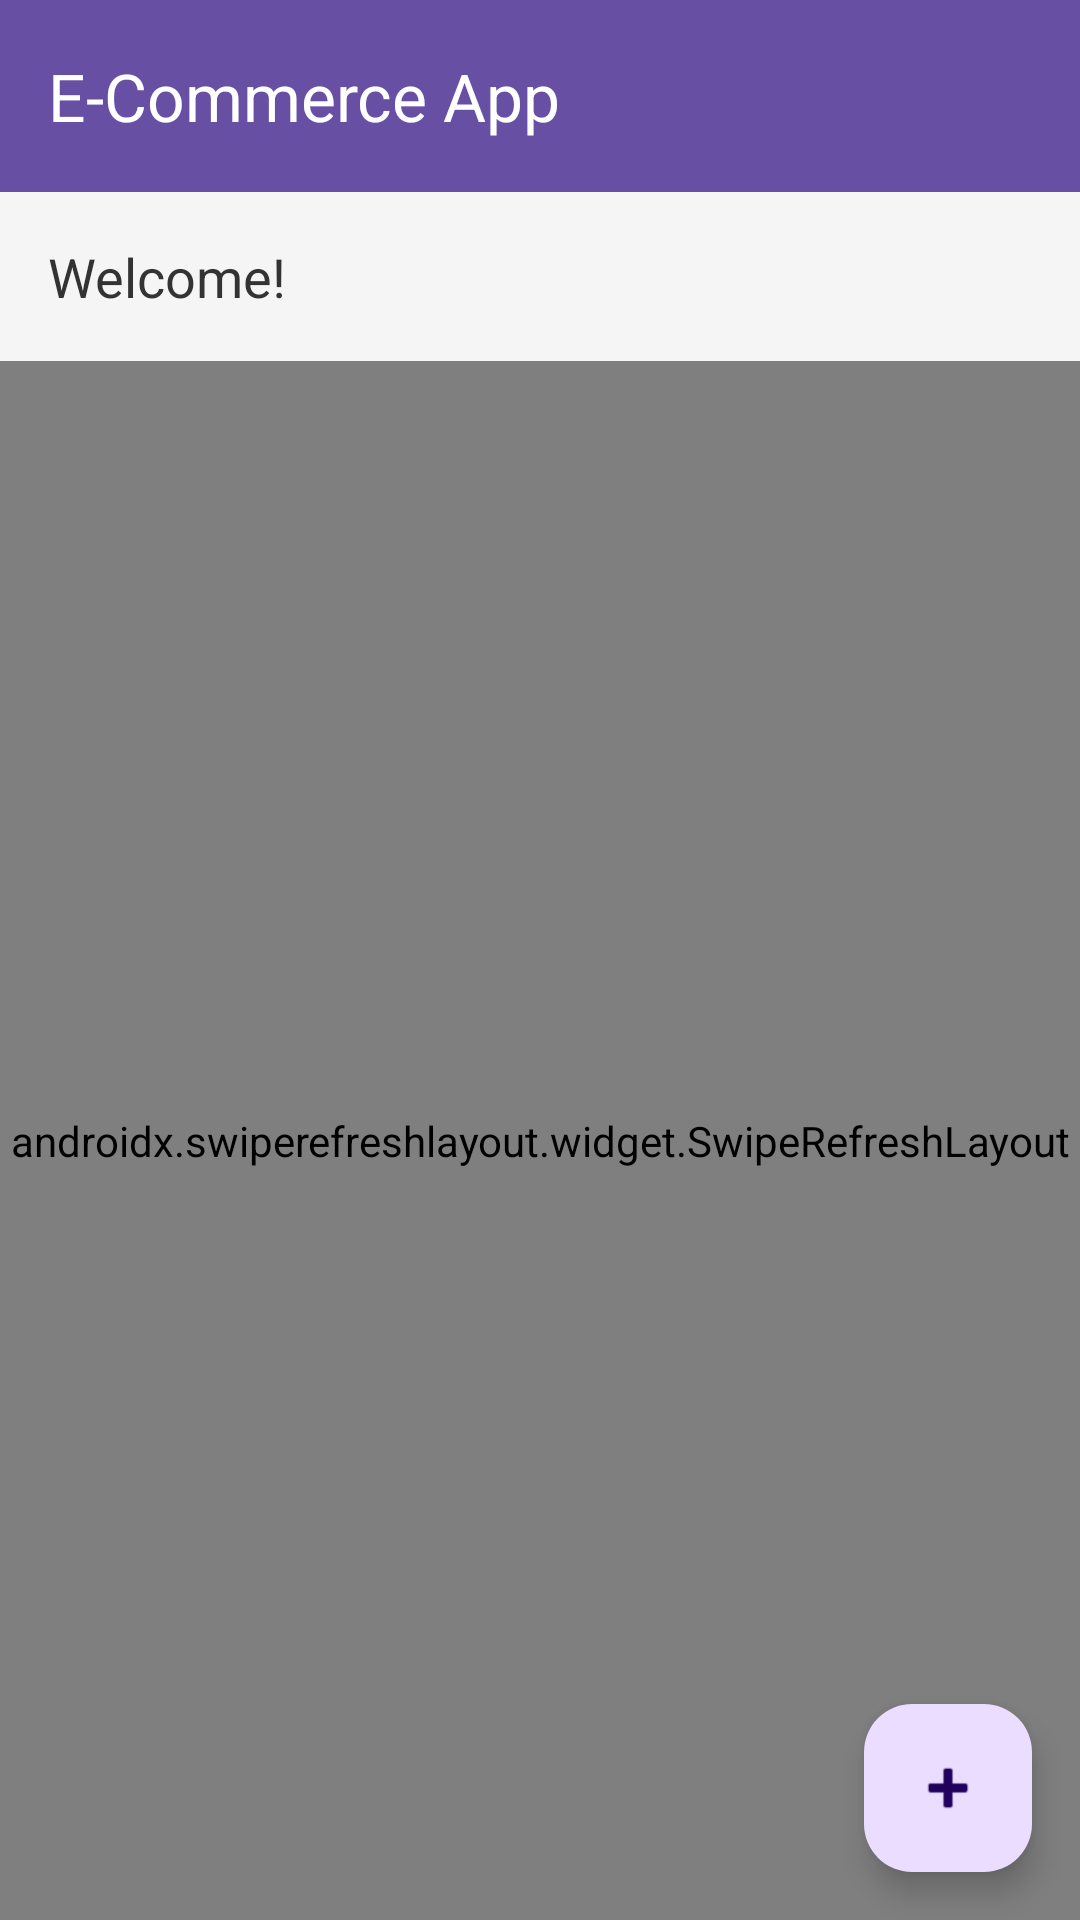

Icons on this 1080px x 1920px Android screen, each with its box as (x1, y1, x2, y2):
Add Product: (864, 1704, 1032, 1872)
